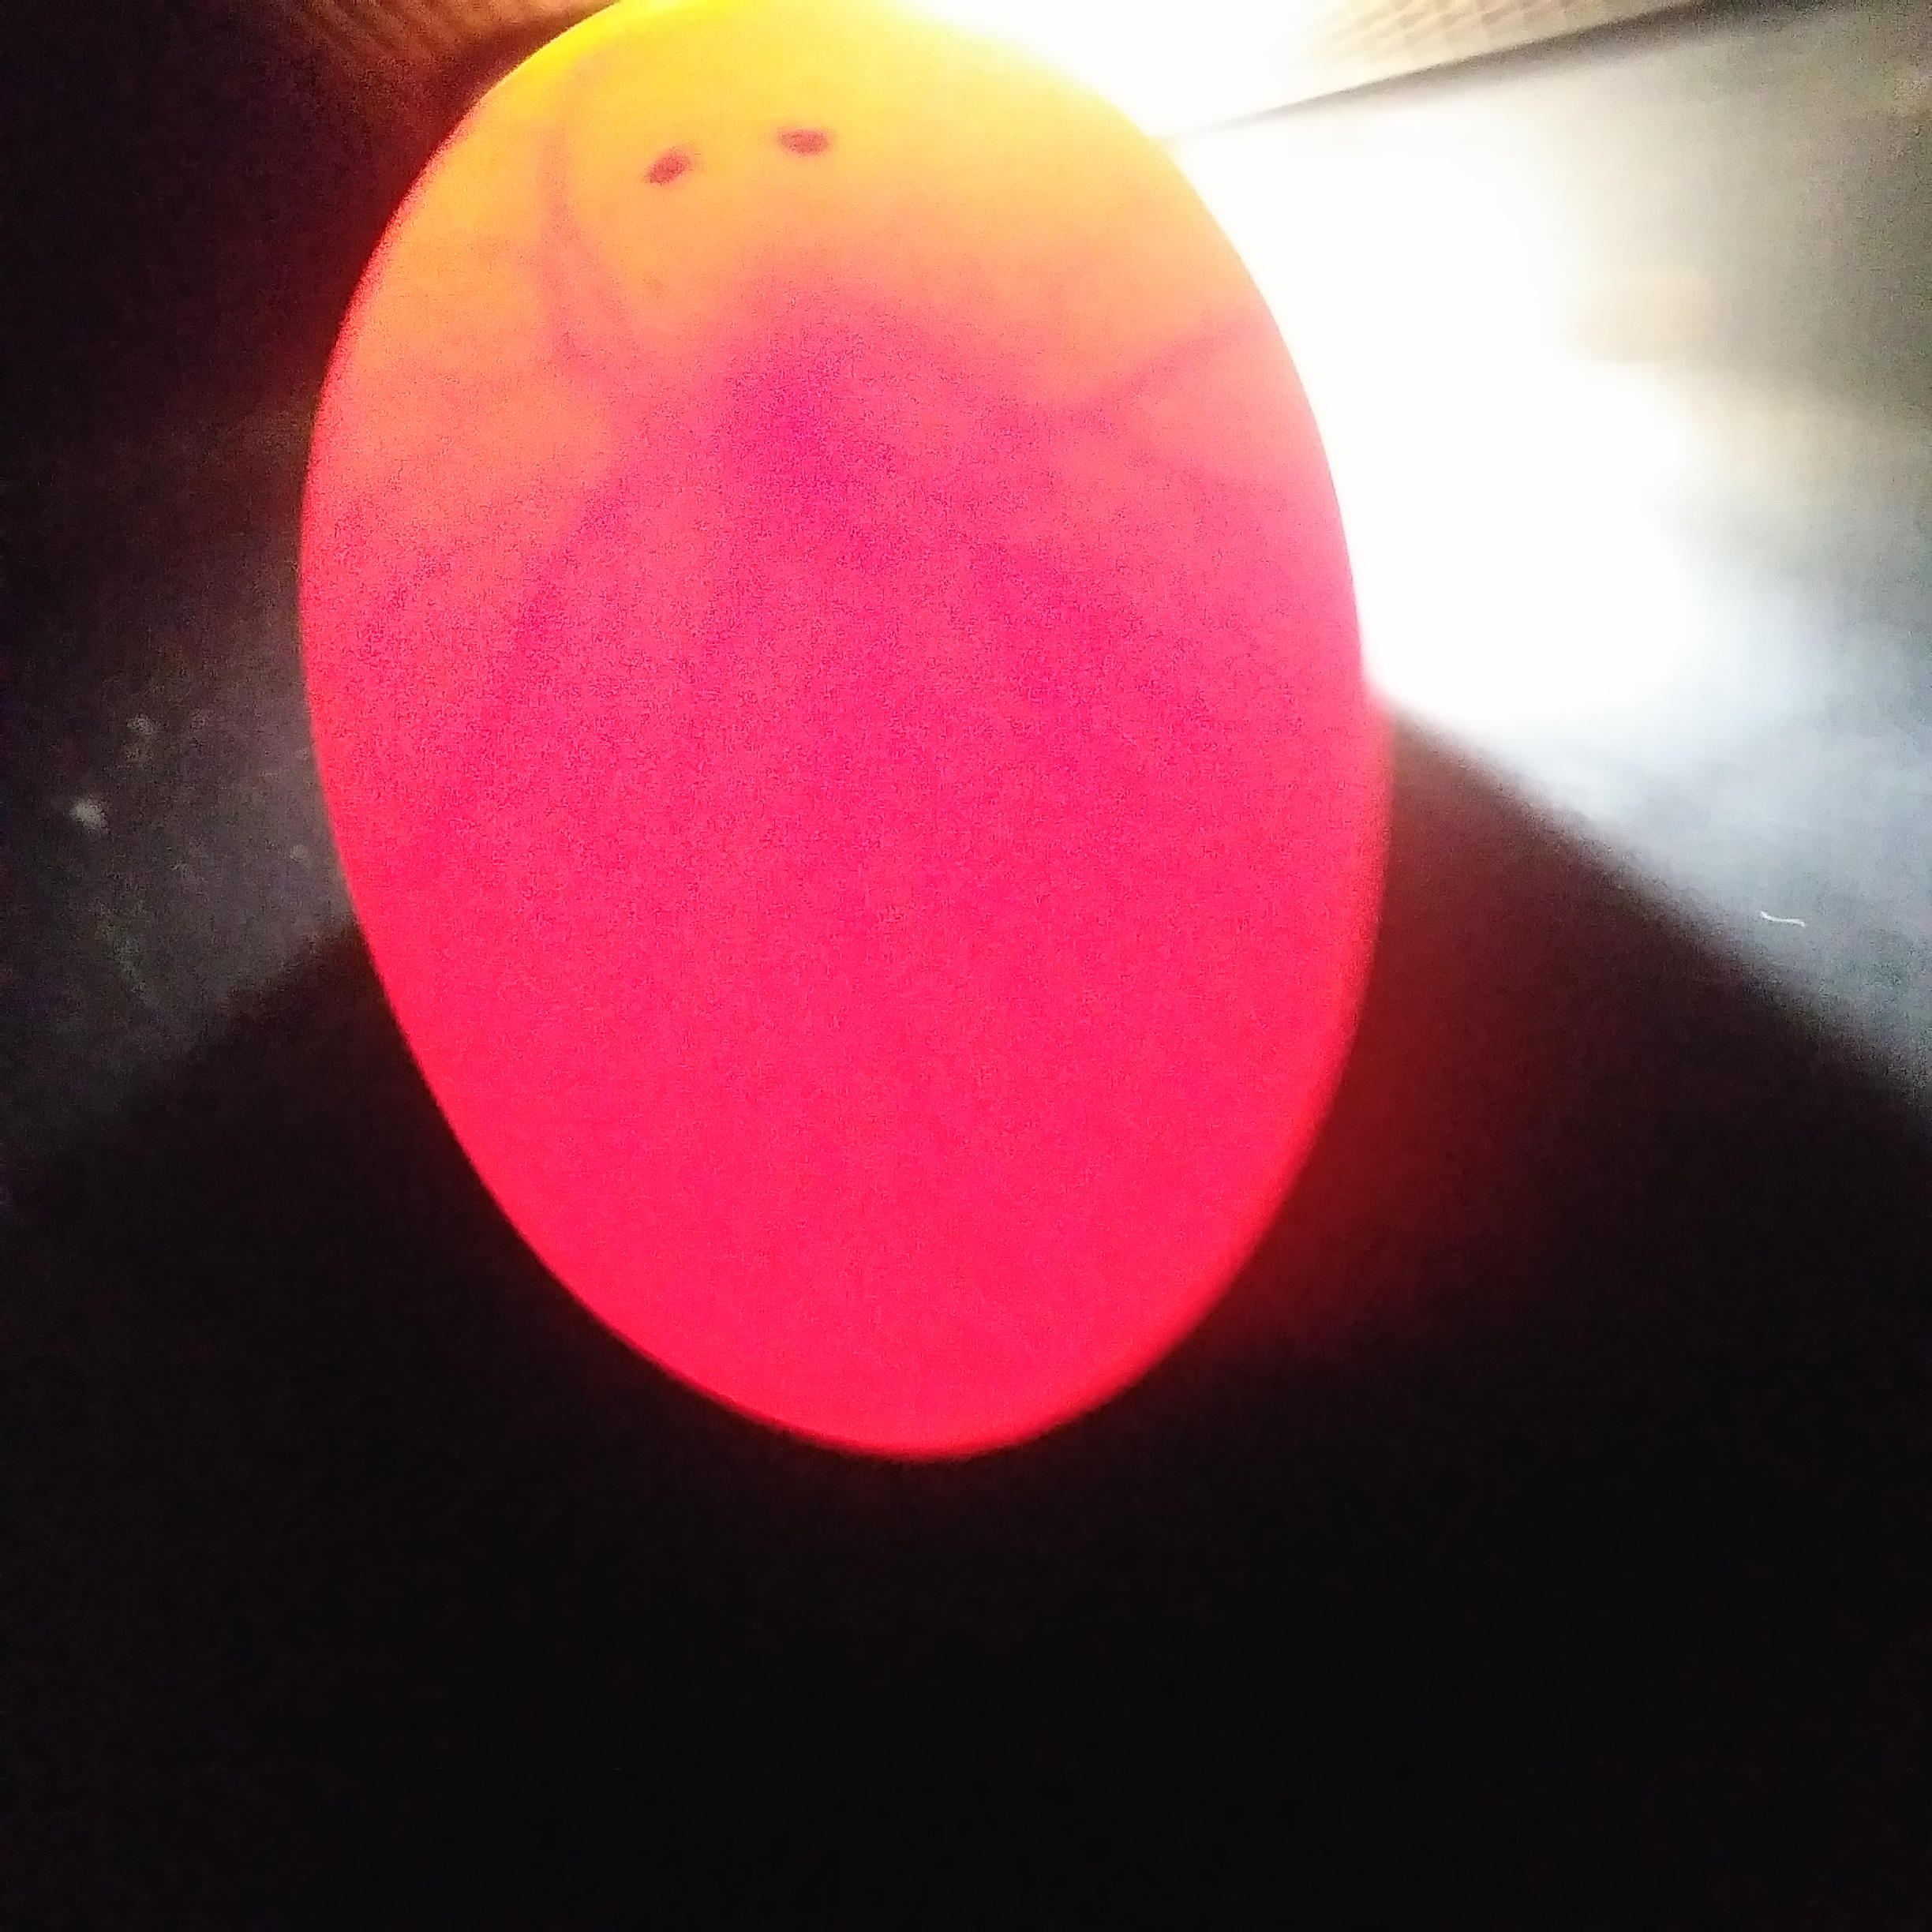bloodcell: (418, 228, 644, 865), (939, 251, 1246, 713)
embryo: (676, 264, 920, 651)
